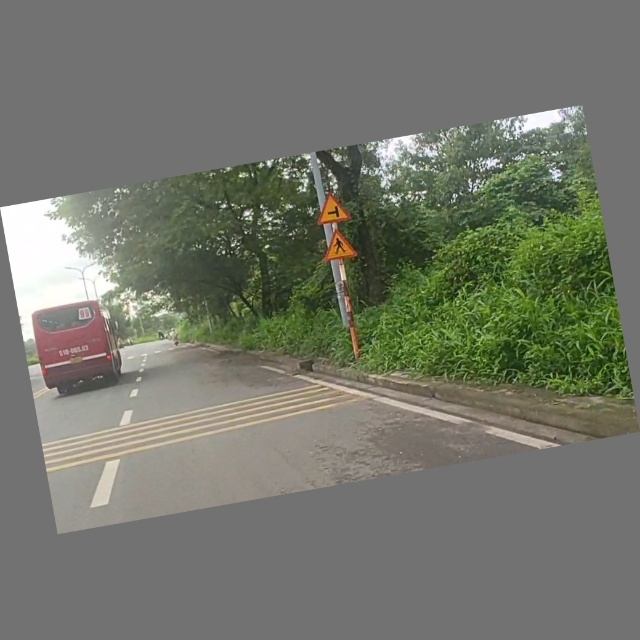W.205c: (312, 189, 357, 227)
W.224: (314, 224, 362, 266)
